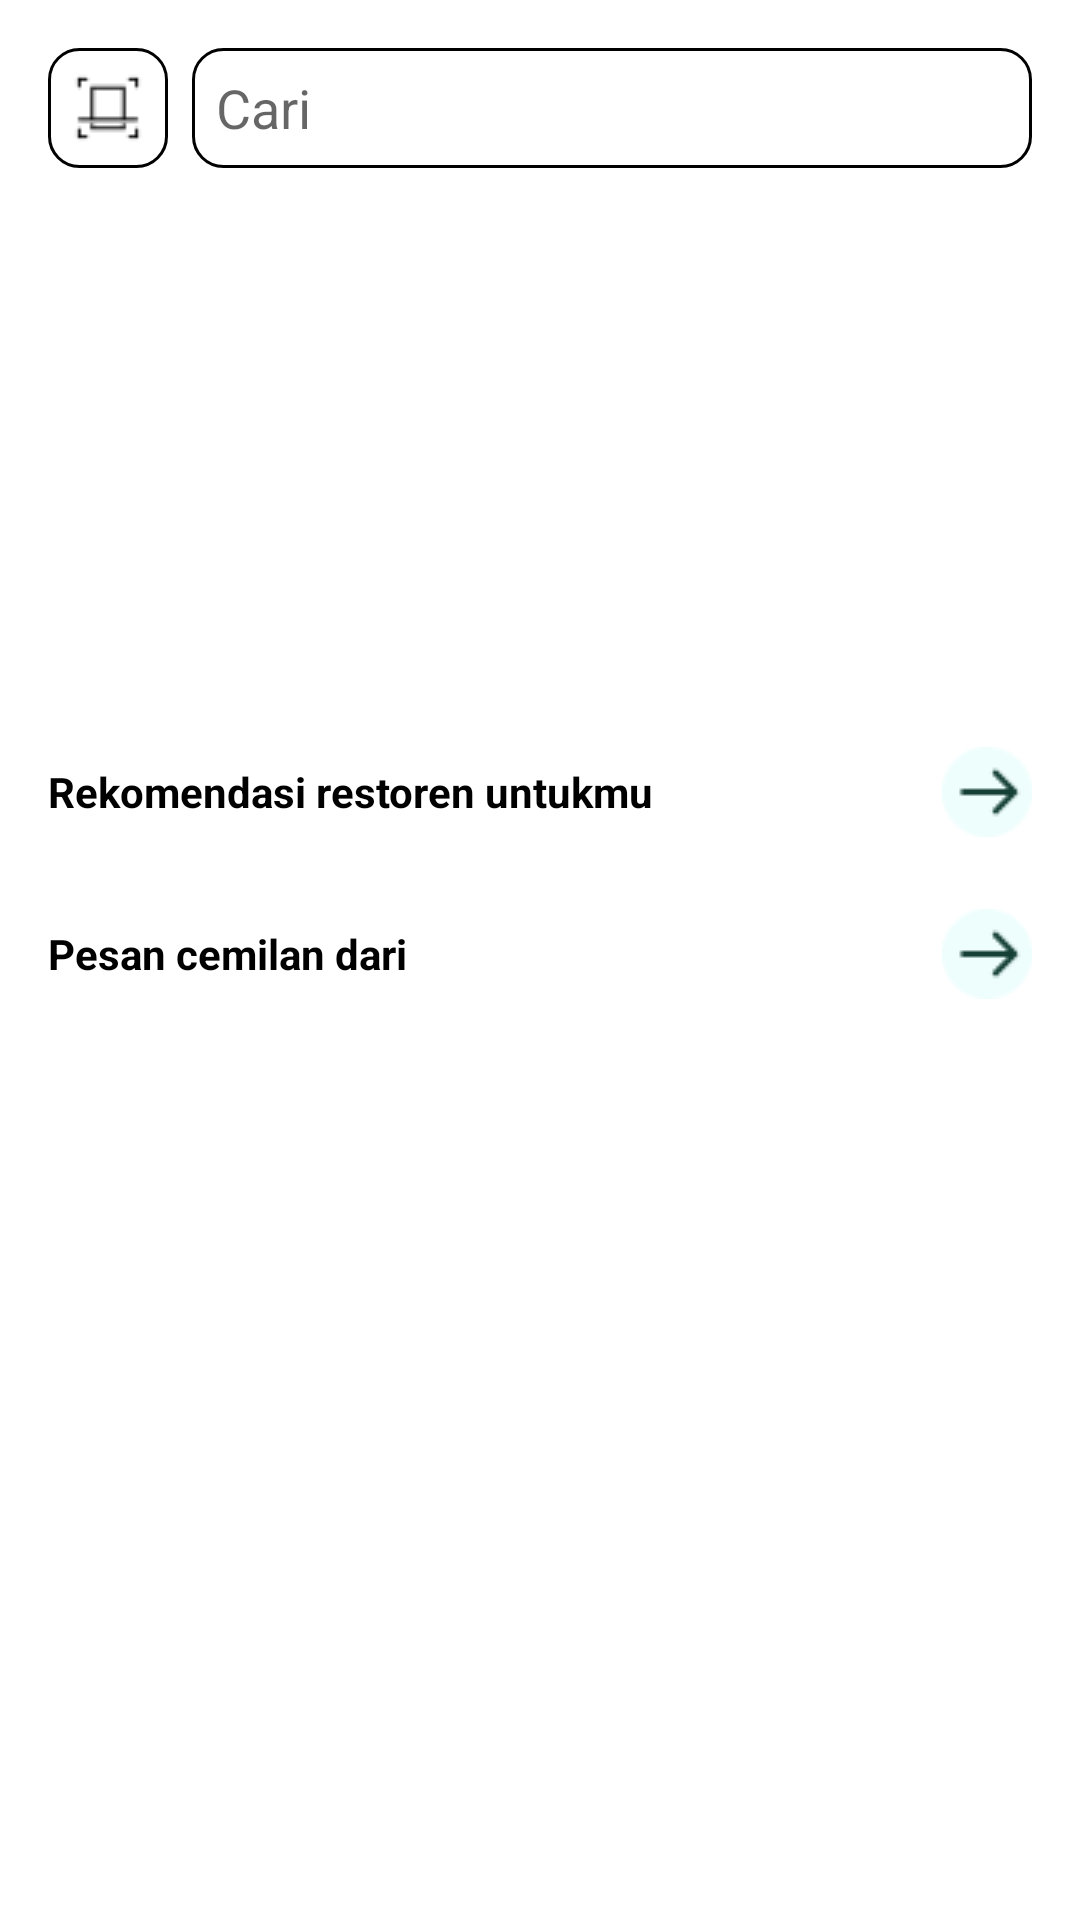

Icons on this 1080×1920 Android screen, each with its box as (x1, y1, x2, y2):
scanner: (48, 48, 168, 168)
